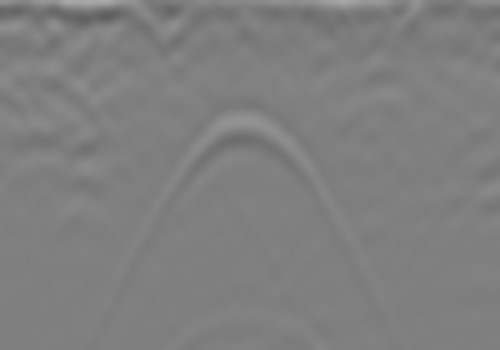hyperbola: (120, 107, 377, 350)
